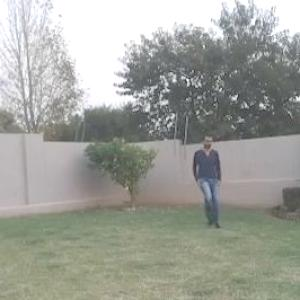follow: (192, 128, 225, 232)
